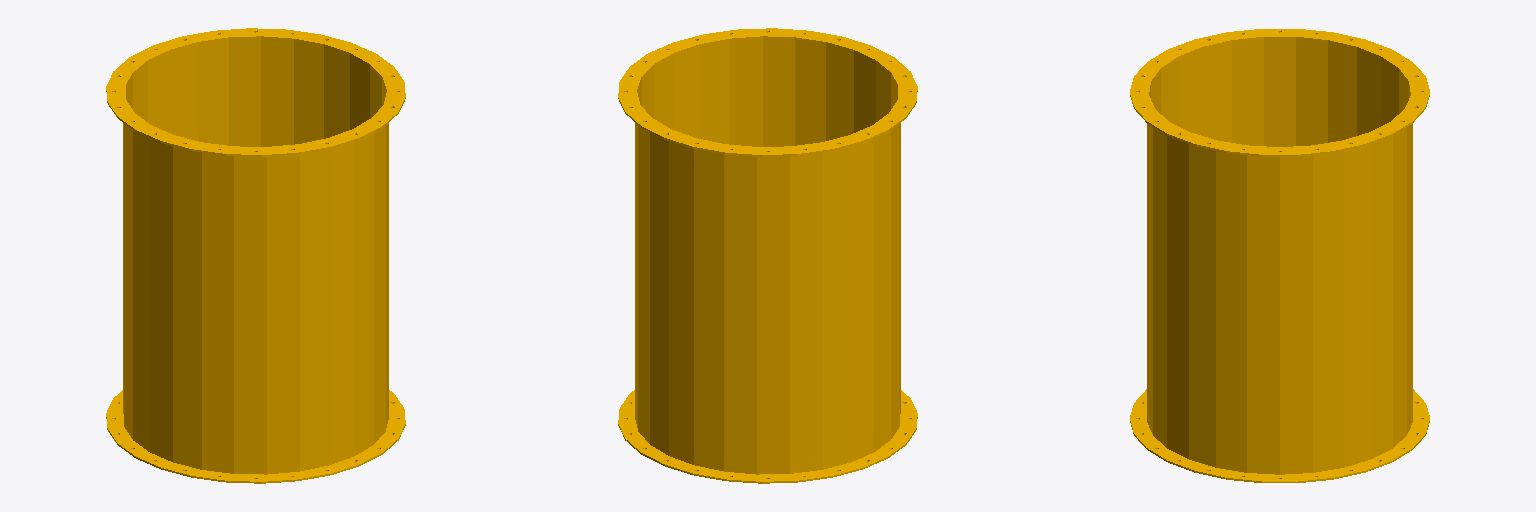
File: lige-106-obj.obj
3 renders of one model, left to right at view 1: azimuth 30°, elevation 25°; view 2: azimuth 150°, elevation 25°; view 3: azimuth 270°, elevation 25°, orthographic.
Parts seen in each view (by area): view 1: lige-106-obj; view 2: lige-106-obj; view 3: lige-106-obj.
Part boxes in pixels (x1,y1,x2,y2): lige-106-obj: (106, 28, 405, 483); lige-106-obj: (618, 28, 917, 483); lige-106-obj: (1130, 29, 1429, 482).
Bounding box in the file's own units: 0.8736 × 1.06 × 0.88.